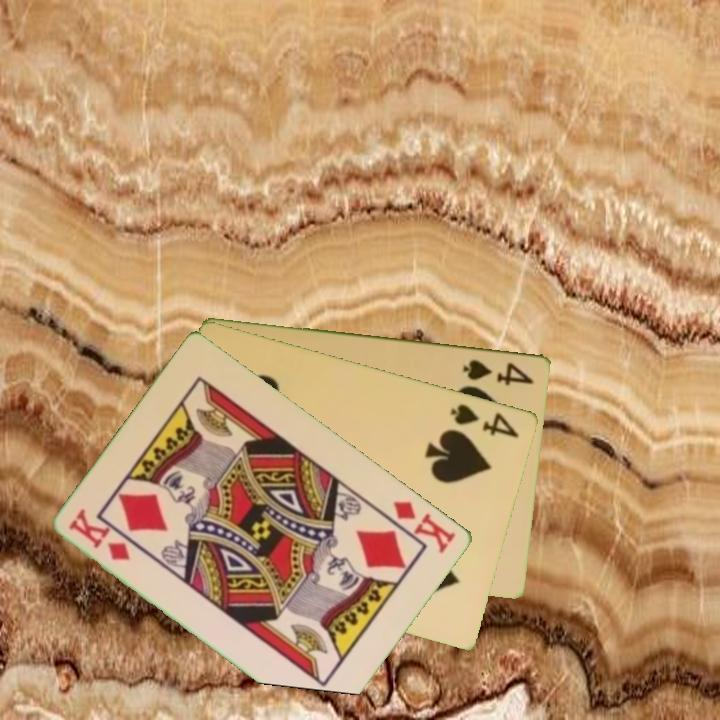4s: (447, 400, 523, 441), (459, 356, 538, 387)
Kd: (390, 497, 460, 557), (66, 506, 134, 564)
